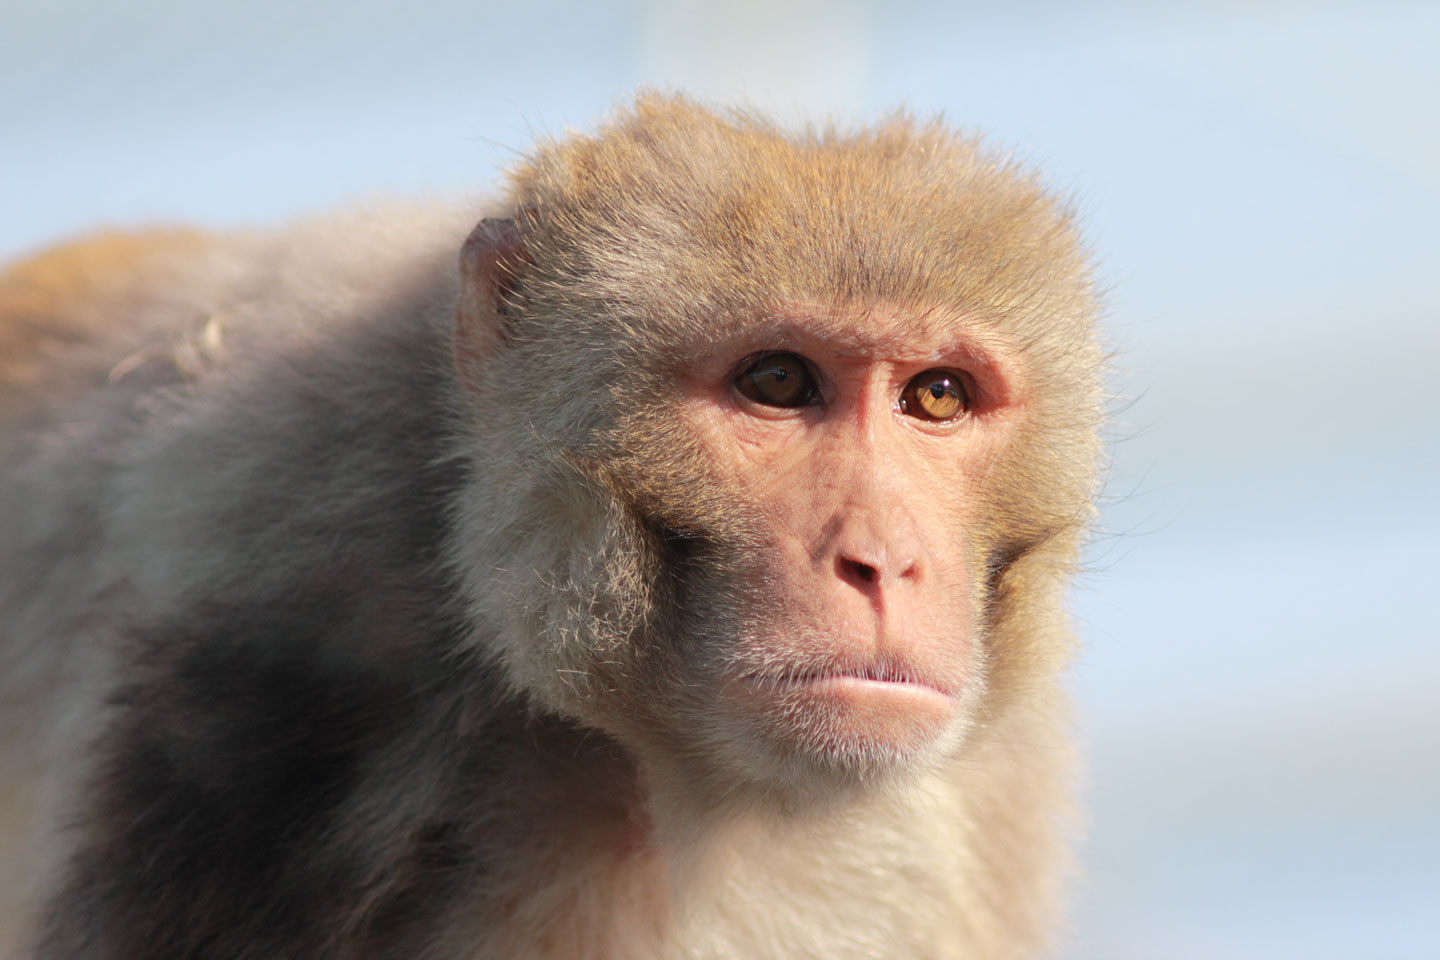monkey: (1, 84, 1132, 960)
